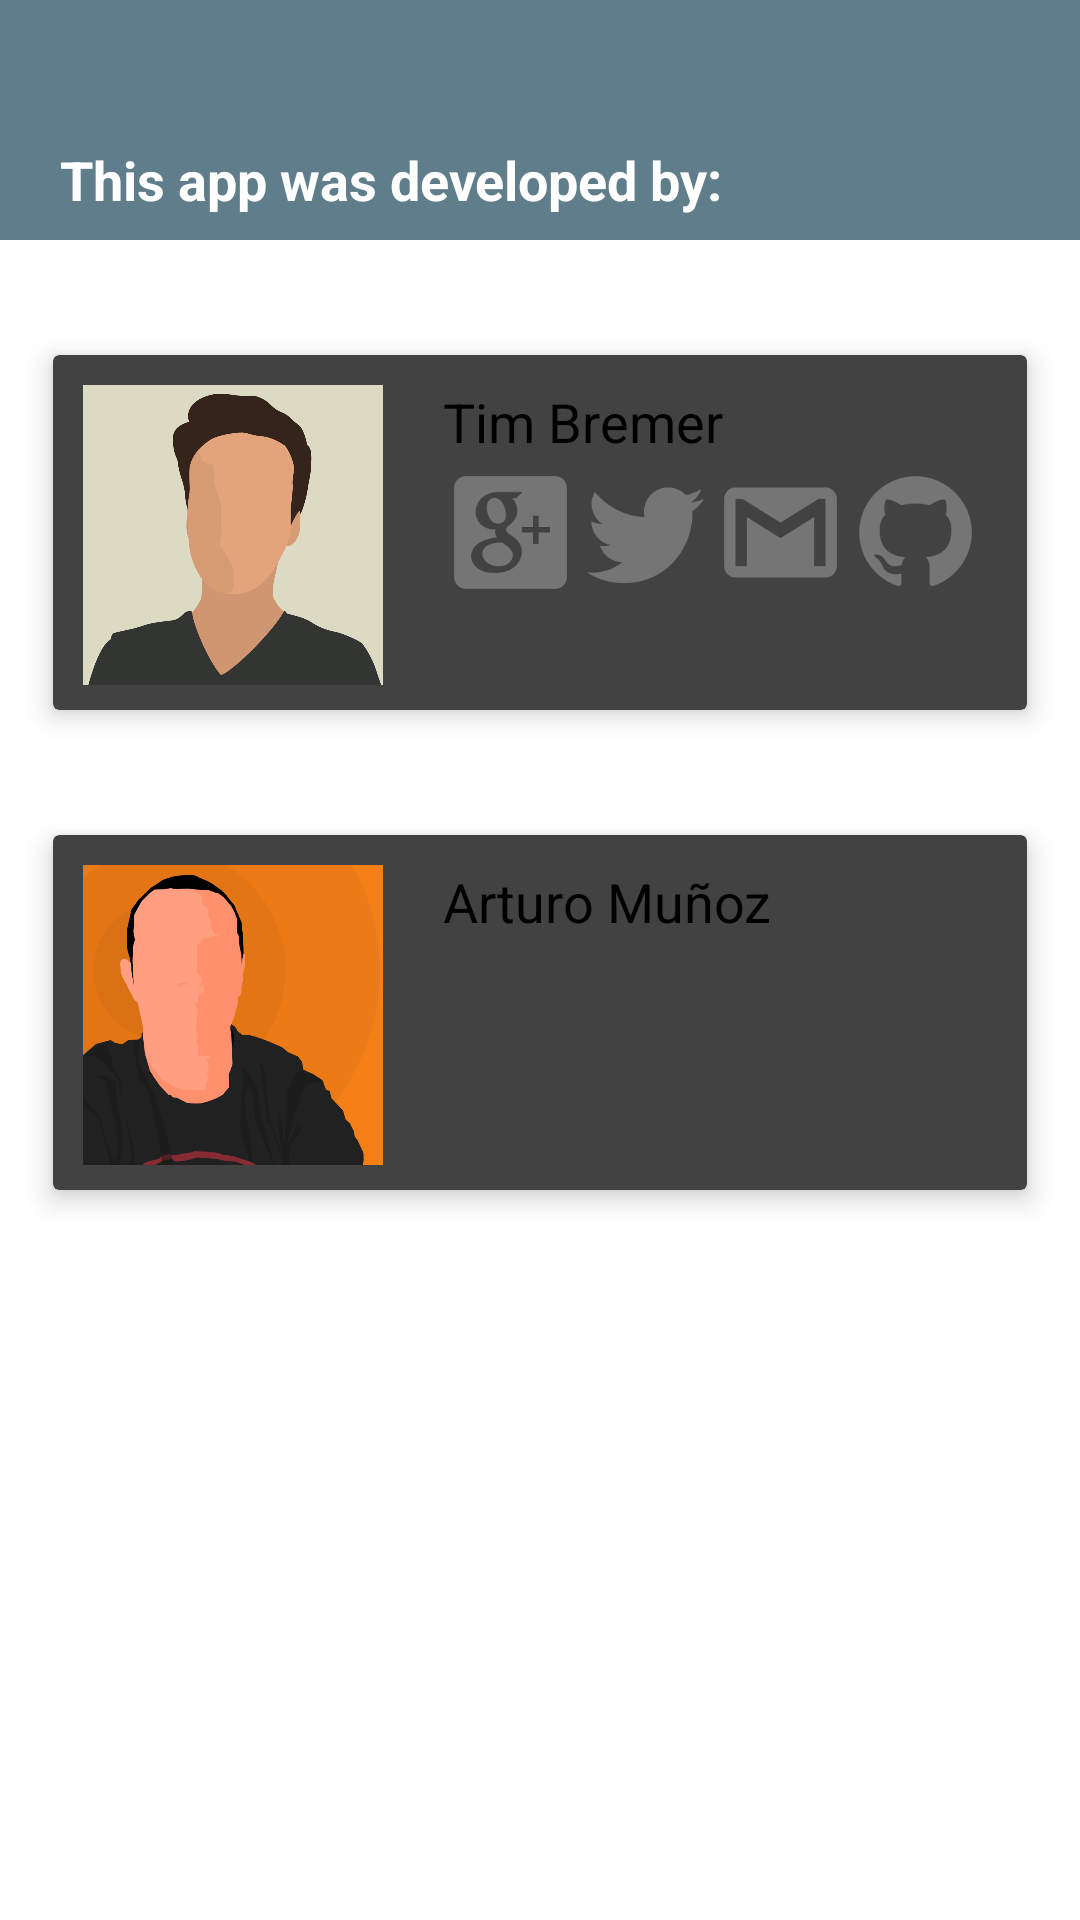

Icons on this 1080px×1920px Android screen, each with the point to tap as (x,y):
newprofile: (233,1015)
tprofile: (233,535)
